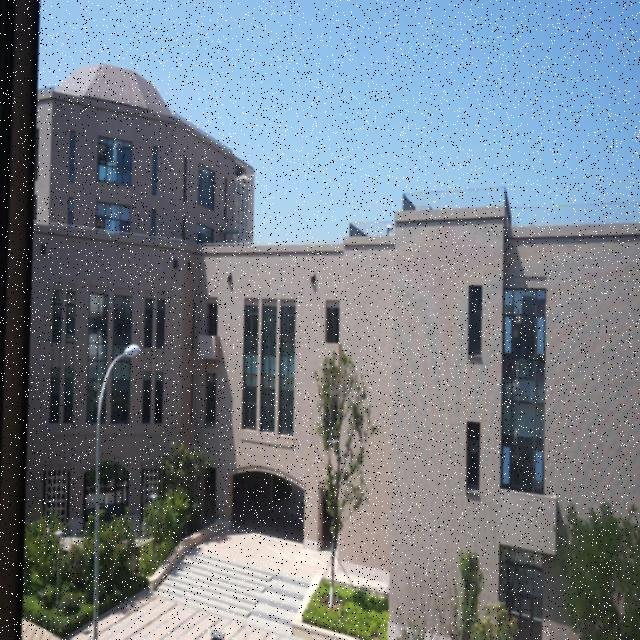UAV: (234, 174, 254, 187)
